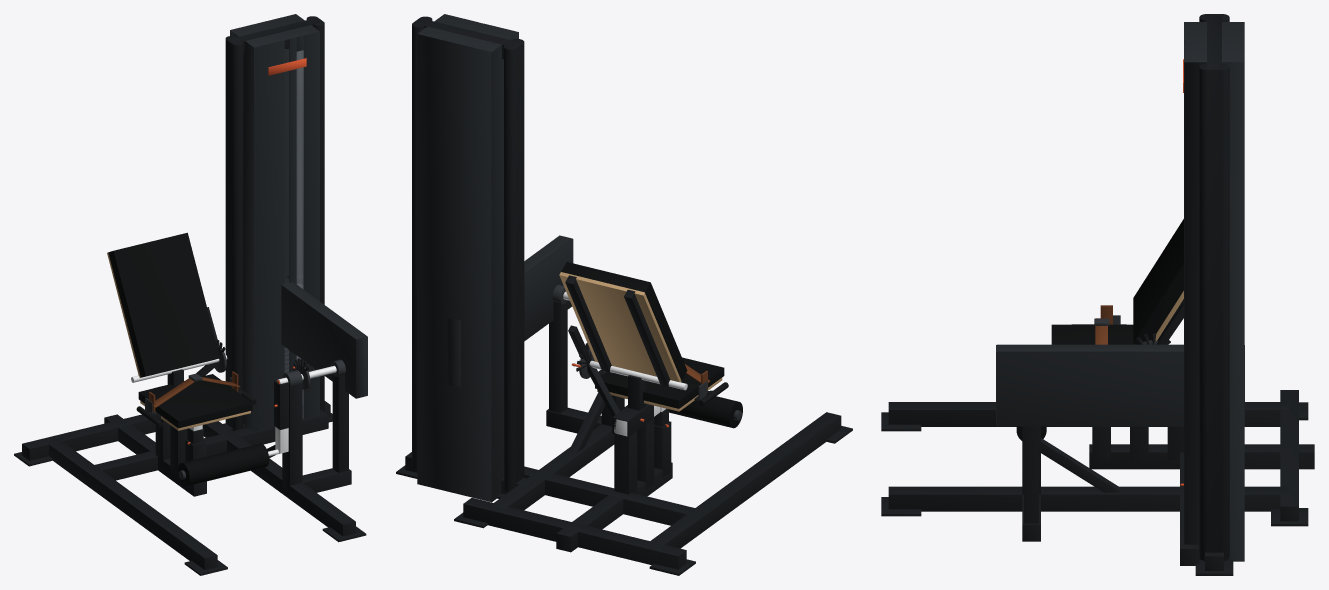
The picture shows the model from 3 angles, left to right: view 1: azimuth 30°, elevation 25°; view 2: azimuth 150°, elevation 25°; view 3: azimuth 270°, elevation 25°; orthographic projection. The views are drawn at different scales.
Parts seen in each view (by area): view 1: shroud.003, pad.001, frame.012, shroud.005, shroud, frame.004, shroud.011, pad, frame.006, frame.008, pad.002, frame.001 (+16 smaller); view 2: shroud.002, frame.012, shroud, frame.004, wood.001, frame.001, frame.008, frame.013, frame.006, shroud.011, pad, frame.047 (+15 smaller); view 3: shroud.001, frame.013, shroud.012, frame.006, frame.004, pad.001, frame, frame.001, shroud.008, shroud.014, pad, frame.047 (+6 smaller).
Boxes of the visible parts, box(x1,y1,x2,y2) form: shroud.003: box(254, 40, 284, 431); pad.001: box(108, 232, 219, 377); frame.012: box(225, 36, 243, 430); shroud.005: box(303, 31, 319, 419); shroud: box(230, 30, 254, 431); frame.004: box(45, 438, 217, 569); shroud.011: box(281, 285, 355, 397); pad: box(138, 374, 252, 428); frame.006: box(202, 421, 355, 536); frame.008: box(95, 410, 328, 480); pad.002: box(178, 443, 269, 486); frame.001: box(22, 414, 155, 460); shroud.002: box(417, 34, 491, 502); frame.012: box(504, 39, 524, 491); shroud: box(491, 32, 518, 501); frame.004: box(646, 412, 841, 548); wood.001: box(559, 272, 681, 382); frame.001: box(463, 498, 686, 569); frame.008: box(524, 466, 694, 525); frame.013: box(412, 16, 432, 469); frame.006: box(490, 405, 627, 510); shroud.011: box(524, 239, 572, 340); pad: box(595, 357, 724, 408); frame.047: box(549, 301, 567, 413); shroud.001: box(1184, 62, 1244, 561); frame.013: box(1199, 63, 1229, 560); shroud.012: box(997, 352, 1183, 425); frame.006: box(888, 486, 1289, 511); frame.004: box(888, 402, 1289, 426); pad.001: box(1133, 219, 1183, 344); frame: box(1089, 444, 1314, 469); frame.001: box(1280, 390, 1298, 521); shroud.008: box(1184, 22, 1244, 61); shroud.014: box(996, 344, 1183, 352); pad: box(1051, 324, 1135, 344); frame.047: box(1024, 426, 1038, 523).
Bounding box in the file's own units: 1.62 × 2.2 × 1.73.
